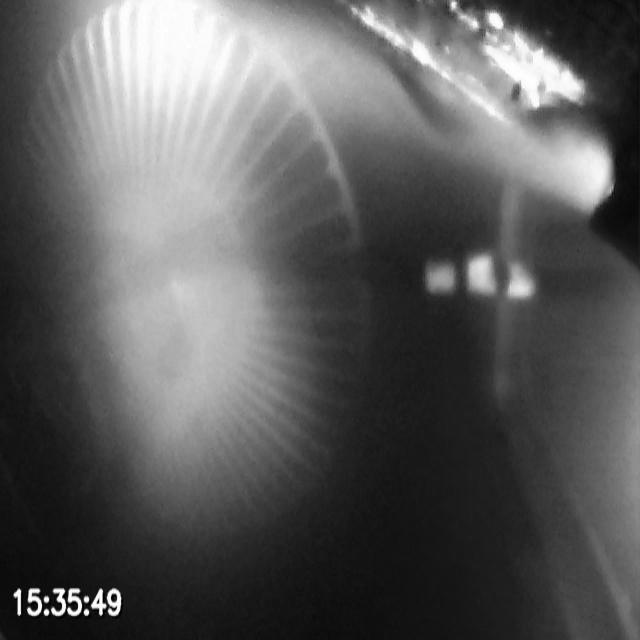white-dots: (425, 251, 537, 302)
